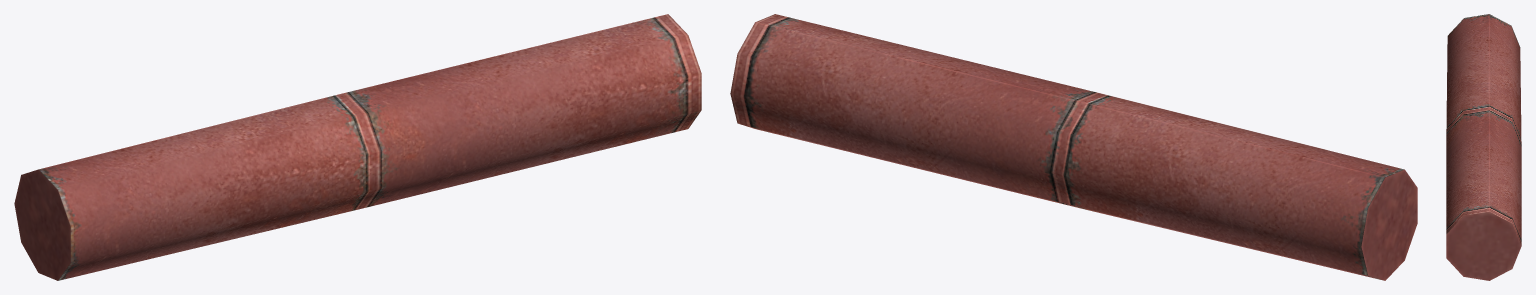
File: Drainage_A.FBX
3 renders of one model, left to right at view 1: azimuth 30°, elevation 25°; view 2: azimuth 150°, elevation 25°; view 3: azimuth 270°, elevation 25°, orthographic. The views are drawn at different scales.
Visible parts, largest first — view 1: Drainage_A; view 2: Drainage_A; view 3: Drainage_A.
Part boxes in pixels (x1,y1,x2,y2): Drainage_A: (14,14,701,280); Drainage_A: (730,14,1417,280); Drainage_A: (1446,14,1521,280).
Size of the model in its own units: 154 by 24.51 by 24.88.
Materials: 1 (1 with a texture image).
